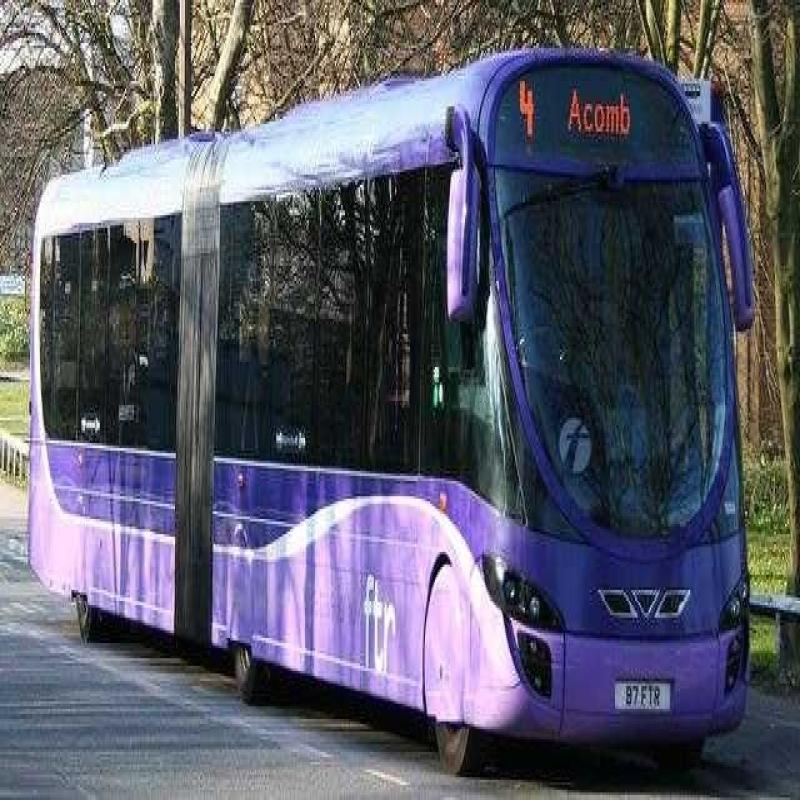bus: (26, 42, 760, 749)
